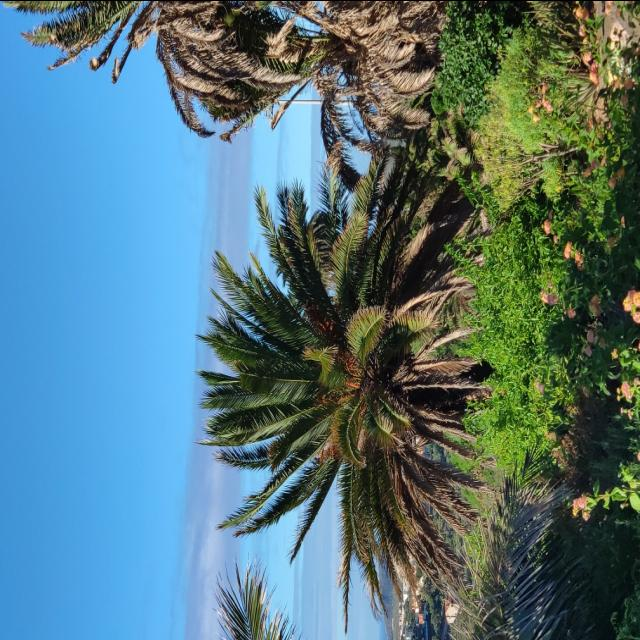Palm-Trees: (195, 155, 498, 635)
